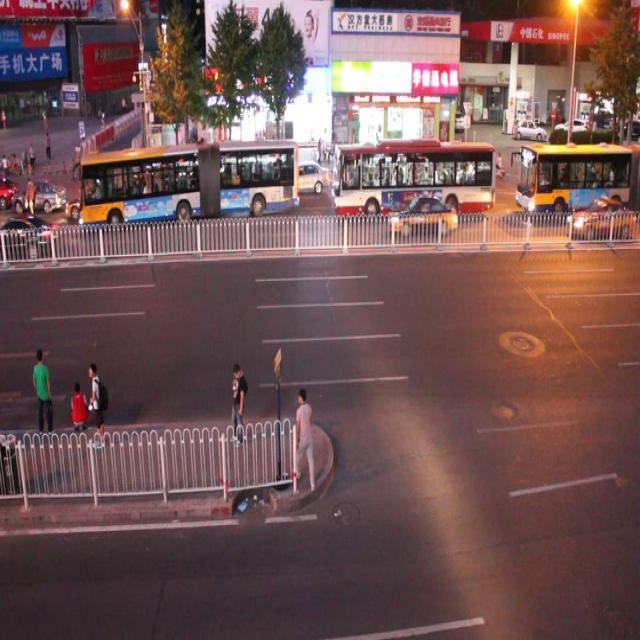car: (388, 192, 457, 236), (568, 196, 630, 239), (1, 216, 56, 262), (65, 187, 124, 223), (11, 178, 66, 214), (281, 159, 328, 195), (200, 164, 242, 201), (1, 174, 19, 208)
van: (78, 141, 300, 228), (330, 138, 495, 222), (515, 140, 640, 223)
